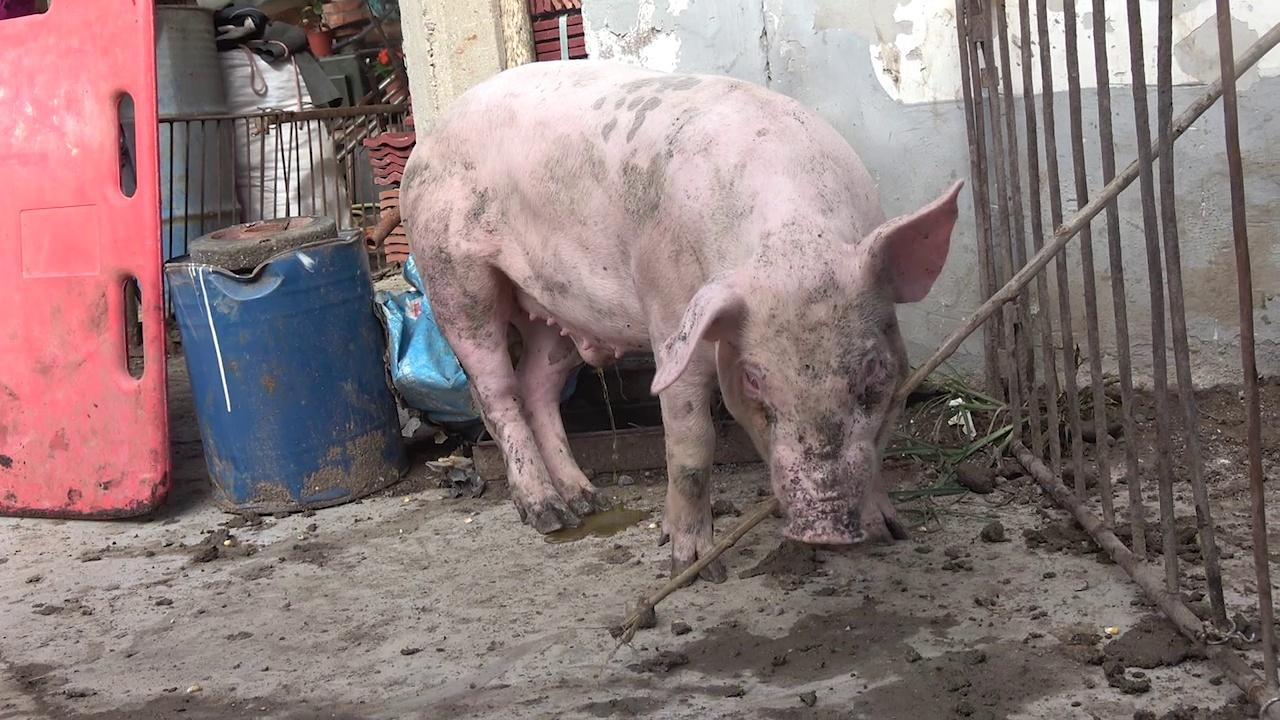Face: (655, 177, 965, 560)
